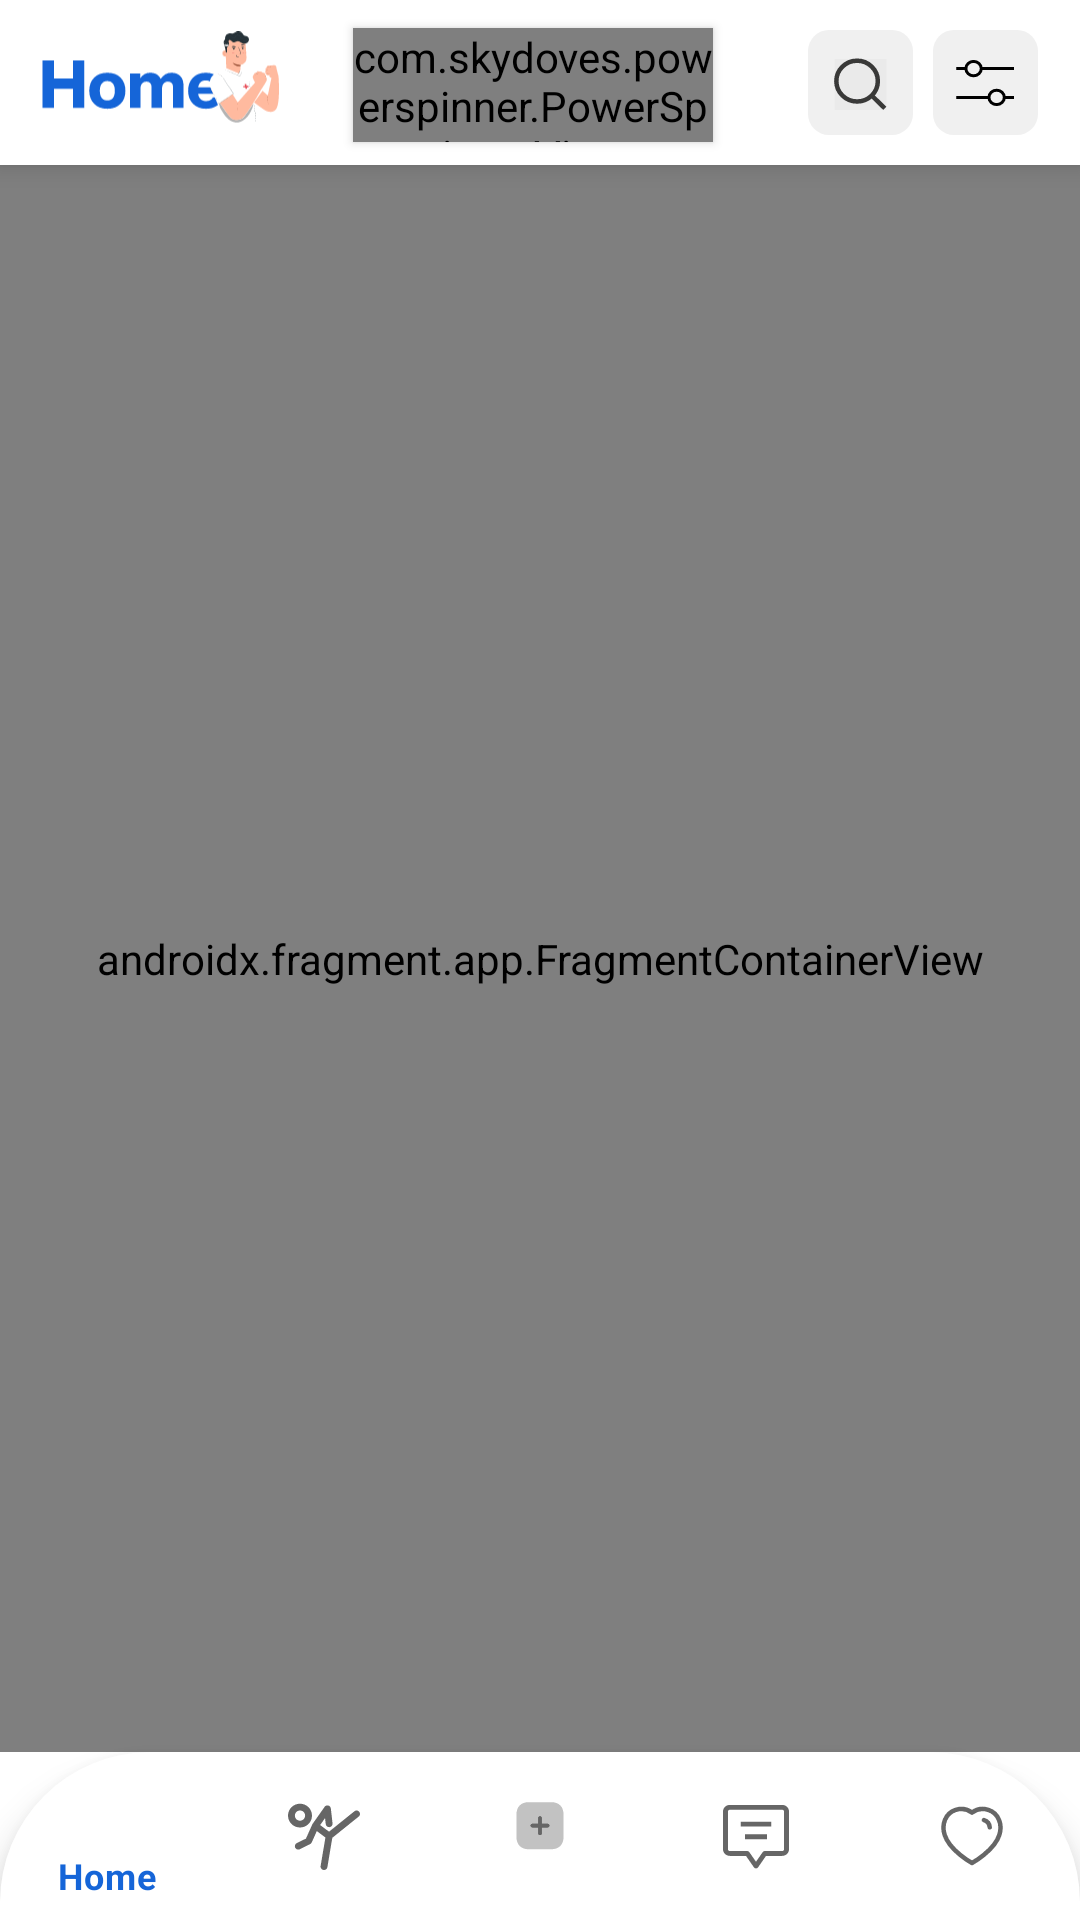

Screen size 1080px×1920px. Icon name, then its box in pixels as (left=x1, top=y1, right=x2, bottom=y2):
adjust horizontal: (left=933, top=30, right=1038, bottom=135)
search: (left=808, top=30, right=913, bottom=135)
